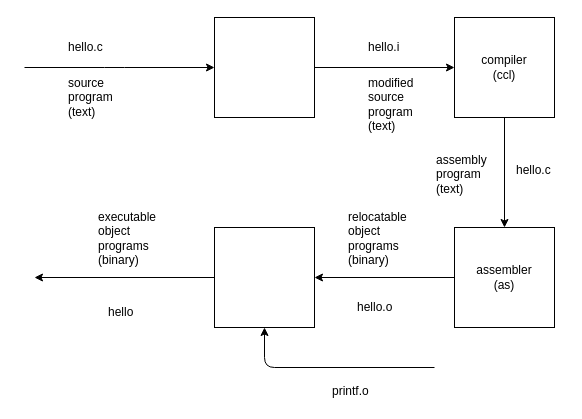
Image size: 582x419. Some labels were removed from this diagram. Each missing label, with the box of its shape:
linker (ld): (214, 226, 314, 328)
Preprocessor (cpp): (214, 16, 314, 118)
